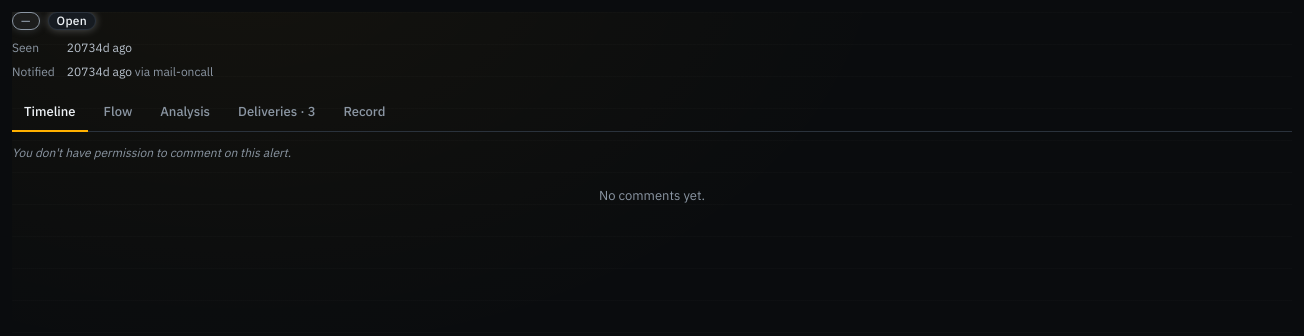
Test: AlertRowDetail › counts the tab from the scope probe, not from the failed probe
Click the tab "Deliveries · 3" at (277, 113), box [226, 94, 327, 132]
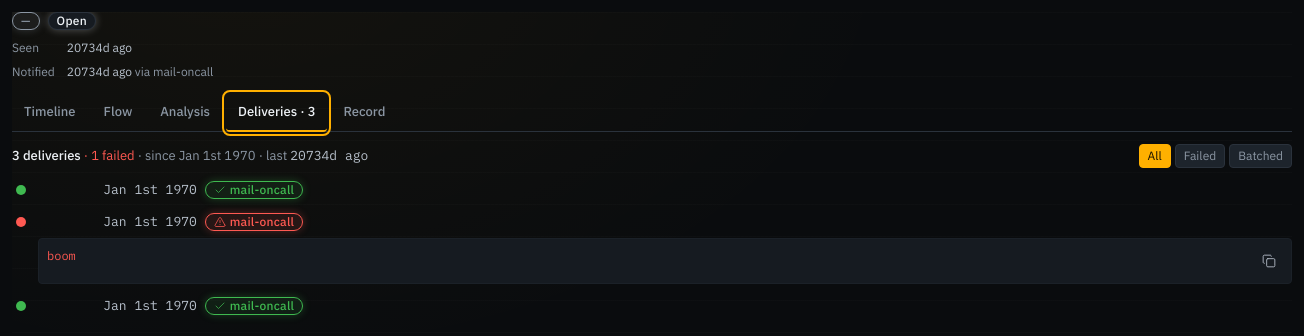
Expected: the text "· 1 failed" is shown, [81, 147, 135, 164]
Expected: the text "3 deliveries" is shown, [12, 147, 81, 164]
